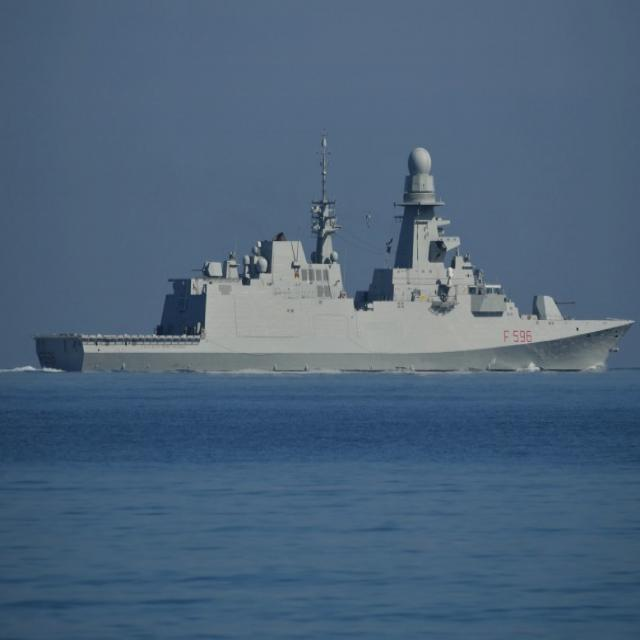Fragata: (34, 136, 640, 377)
